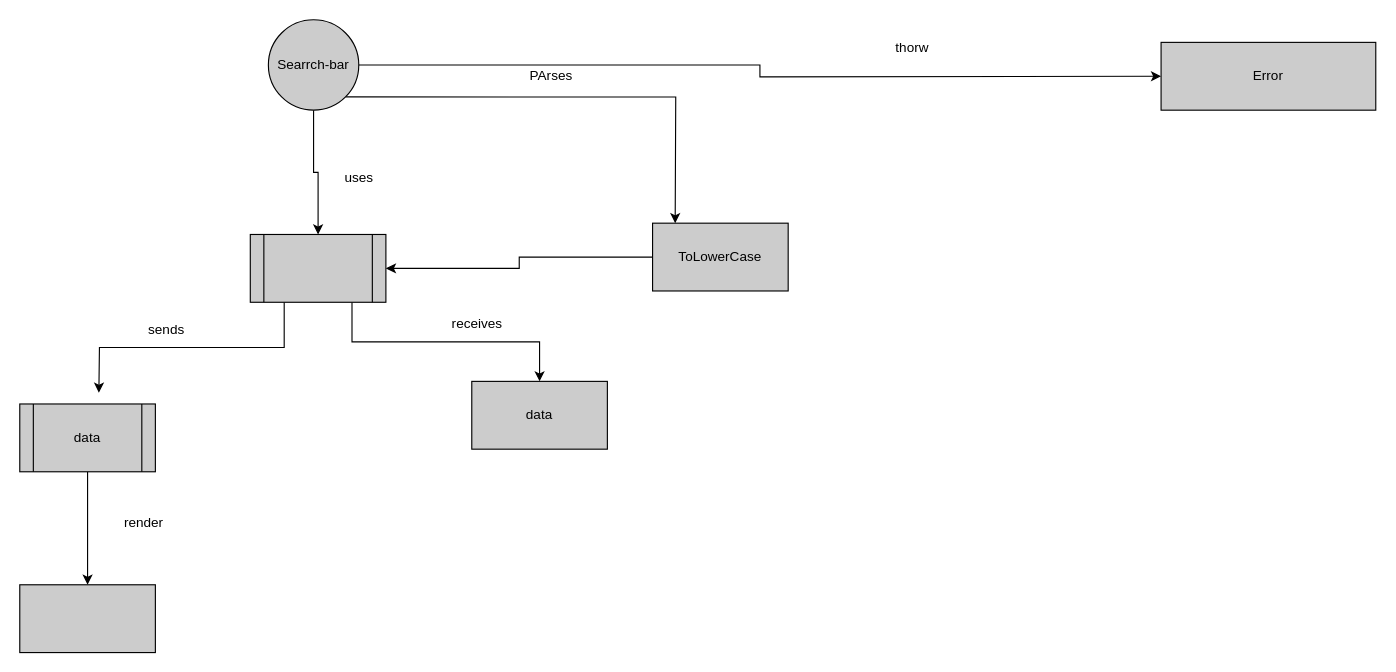
This 1396x672 diagram has some shape labels left out. Each missing label, with the centre of its shape:
"API" goes at point 317,267.
"data-list" goes at point 87,618.
